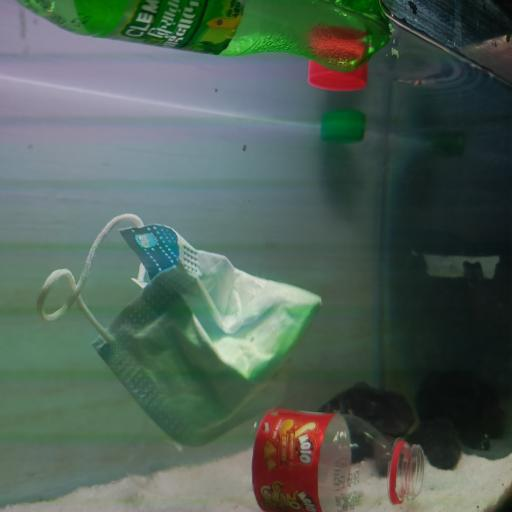bottle_cap: (307, 54, 370, 93), (320, 112, 366, 144)
mask: (36, 213, 324, 447)
plastic_bottle: (120, 407, 426, 510), (12, 0, 398, 71)
